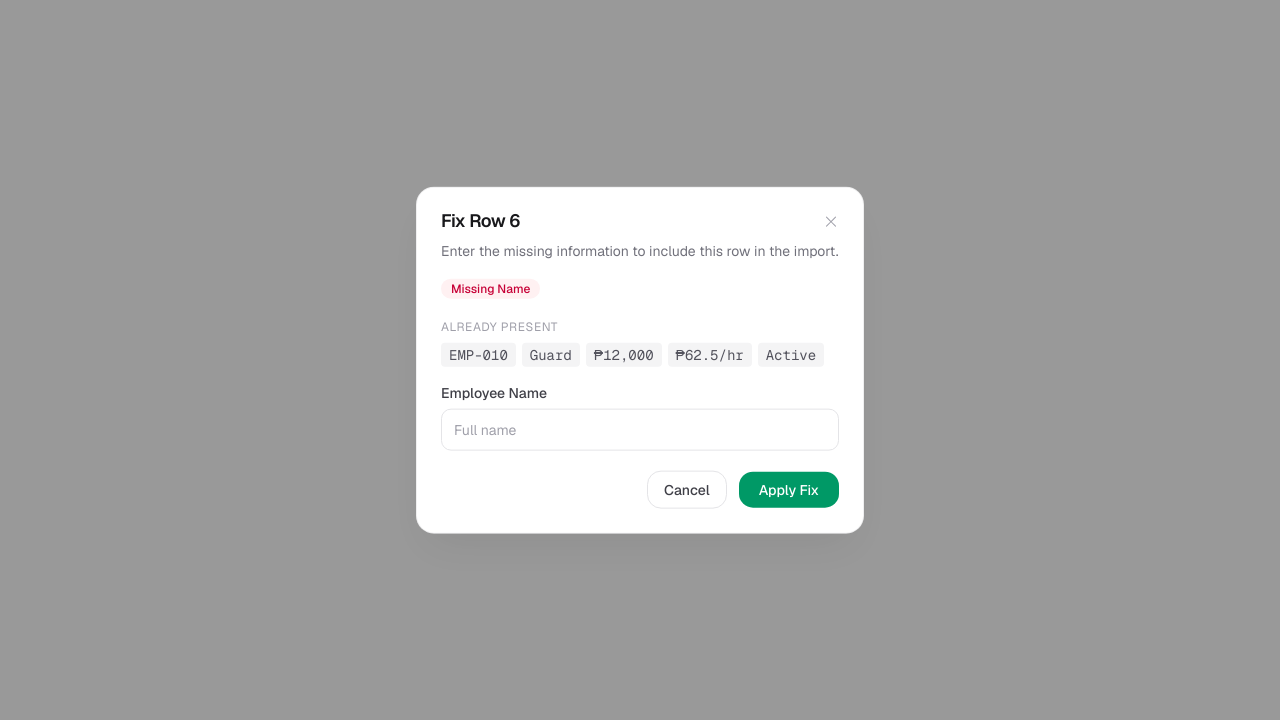
FixInvalidRowDialog › on failed fix › shows inline error message when applyRowFix returns error codes
Click the button "Apply Fix": (789, 489) [739, 471, 839, 507]
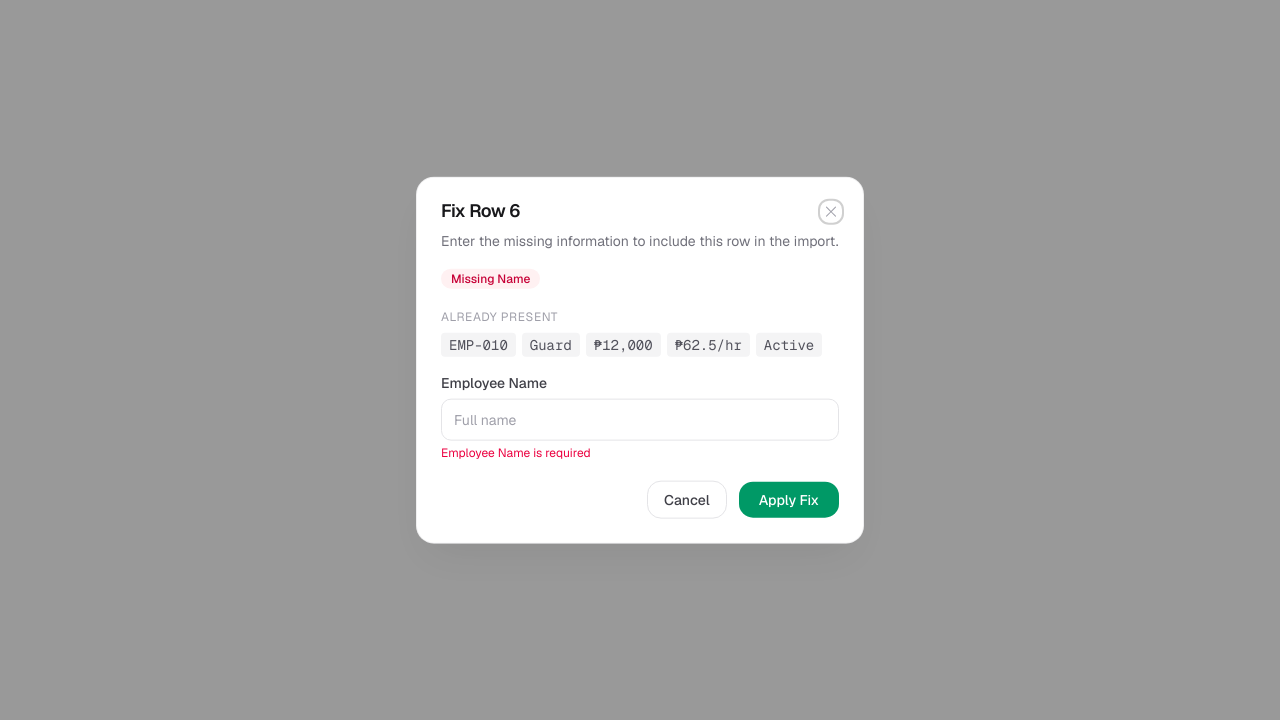
Expected: the message "Employee Name is required" is shown, [441, 444, 591, 460]
